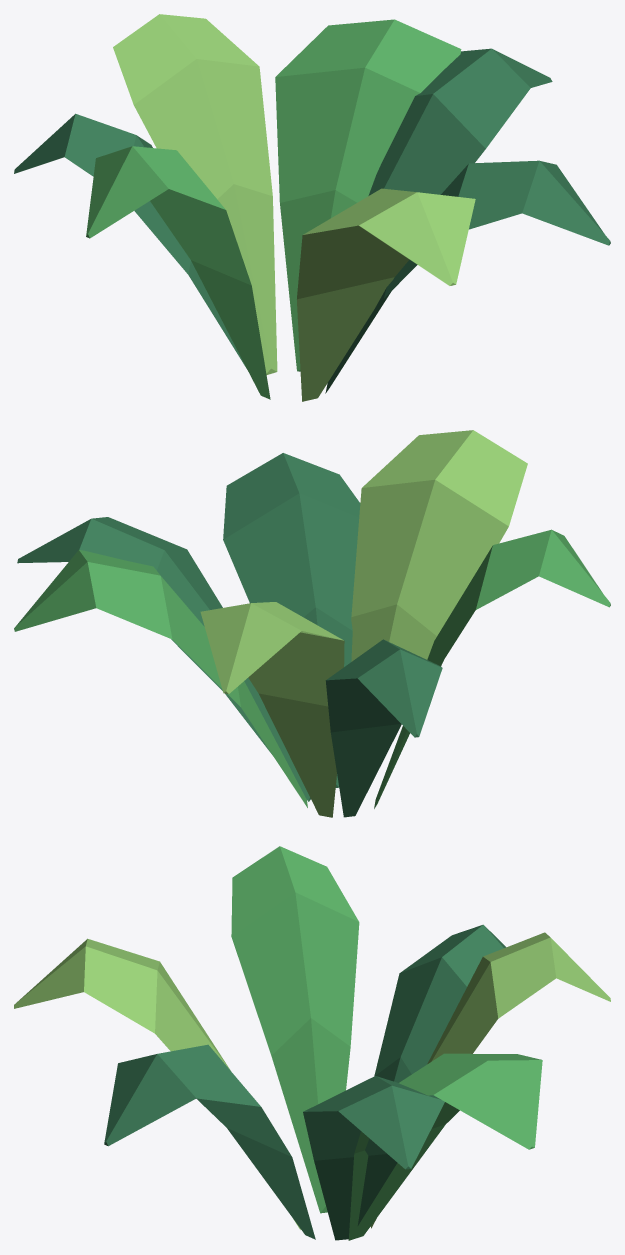
The model's file is plant_broadleaf_b.glb.
3 renders of one model, top to bottom at view 1: azimuth 30°, elevation 25°; view 2: azimuth 150°, elevation 25°; view 3: azimuth 270°, elevation 25°, orthographic. The views are drawn at different scales.
Visible parts, largest first — view 1: PlantBroadleafB; view 2: PlantBroadleafB; view 3: PlantBroadleafB.
Boxes of the visible parts, left/top/right/bottom form: PlantBroadleafB: left=14, top=14, right=610, bottom=401; PlantBroadleafB: left=14, top=430, right=610, bottom=817; PlantBroadleafB: left=14, top=846, right=610, bottom=1240.
Size of the model in its own units: 0.7896 by 0.4309 by 0.7951.
